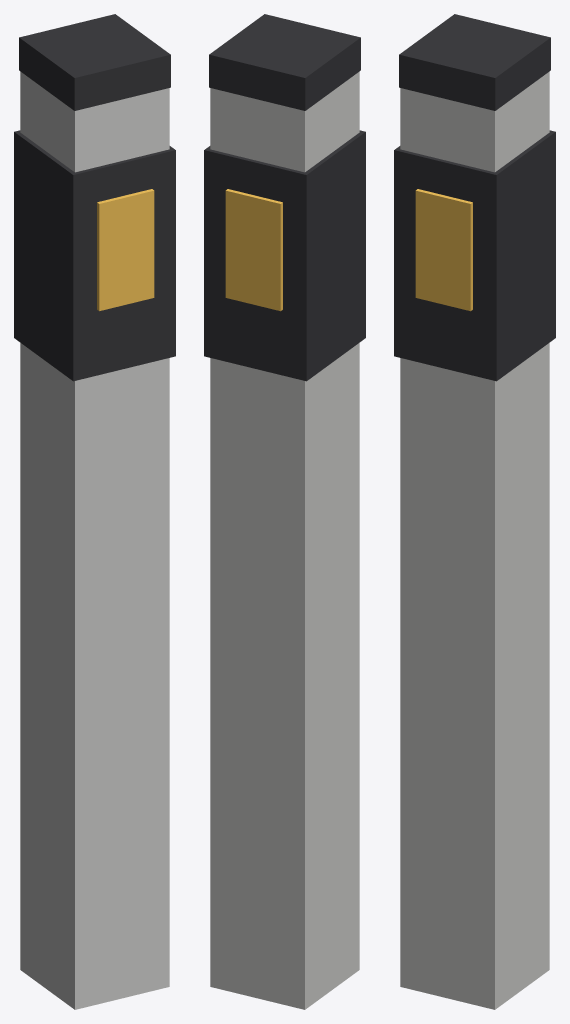
File: reflector_post.glb
3 views of the same model, side by side, from view 1: azimuth 30°, elevation 25°; view 2: azimuth 150°, elevation 25°; view 3: azimuth 330°, elevation 25° (orthographic).
Parts seen in each view (by area): view 1: reflector_post; view 2: reflector_post; view 3: reflector_post.
Part boxes in pixels (box(x1,y1,x2,y2)): reflector_post: box(14, 14, 175, 1009); reflector_post: box(204, 14, 365, 1009); reflector_post: box(394, 14, 555, 1009).
Bounding box in the file's own units: 0.13 × 1.13 × 0.14.
